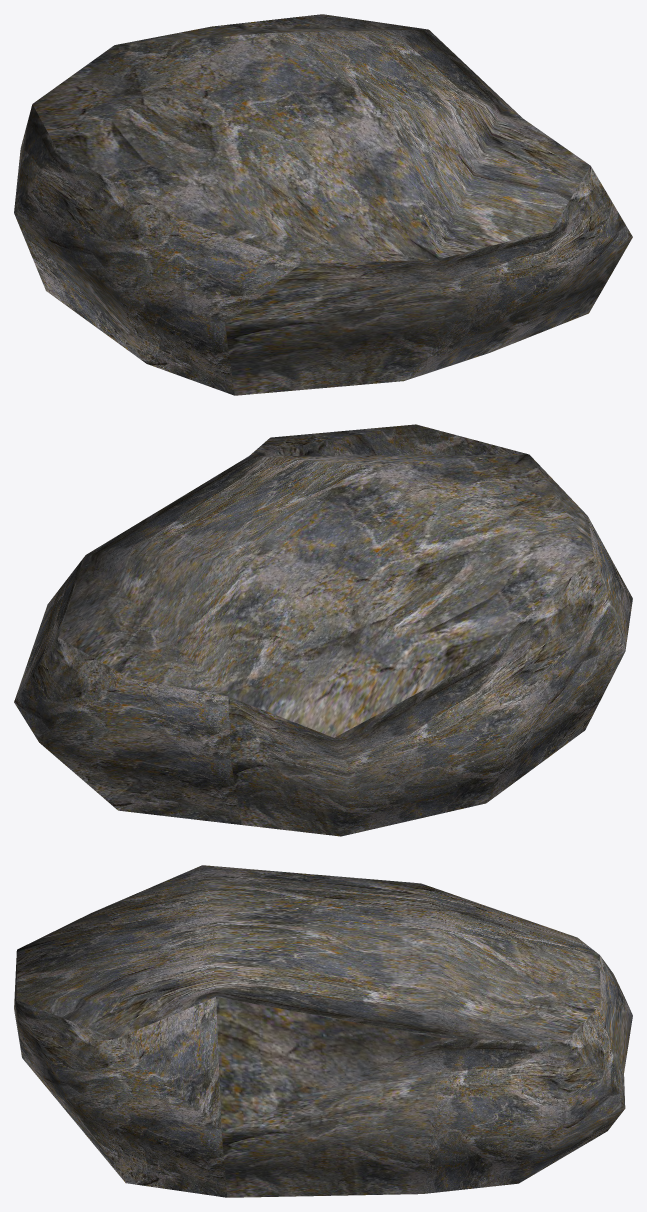
File: Stone-02.obj
3 renders of one model, top to bottom at view 1: azimuth 30°, elevation 25°; view 2: azimuth 150°, elevation 25°; view 3: azimuth 270°, elevation 25°, orthographic. The views are drawn at different scales.
Visible parts, largest first — view 1: Stone-02; view 2: Stone-02; view 3: Stone-02.
Part boxes in pixels (x1,y1,x2,y2): Stone-02: (14, 14, 632, 395); Stone-02: (14, 424, 632, 836); Stone-02: (14, 865, 632, 1197).
Bounding box in the file's own units: 3.59 × 1.68 × 4.37.
